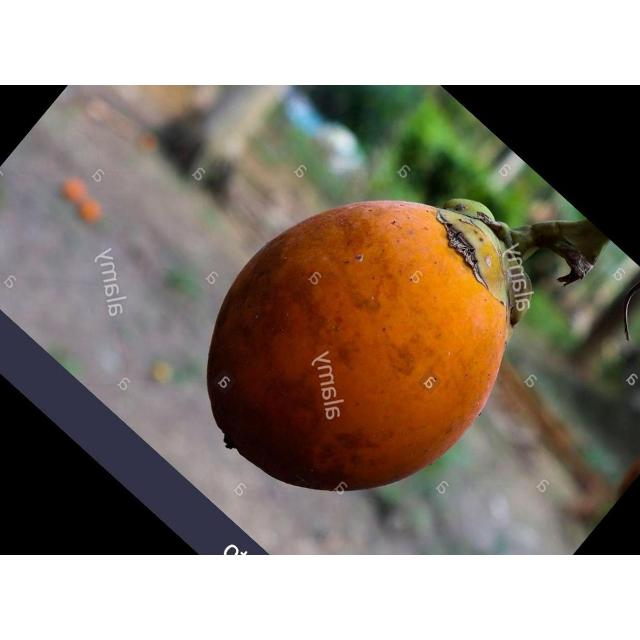good: (206, 201, 530, 495)
